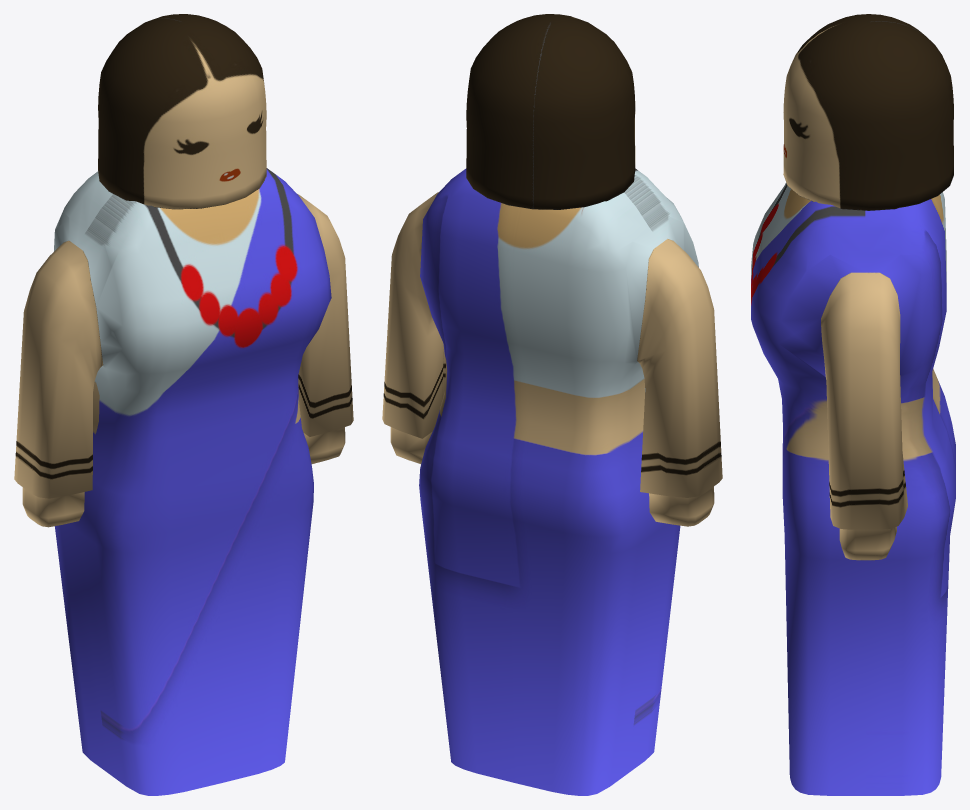
The model's file is EditedFemale.fbx.
3 views of the same model, side by side, from view 1: azimuth 30°, elevation 25°; view 2: azimuth 150°, elevation 25°; view 3: azimuth 270°, elevation 25° (orthographic).
Parts seen in each view (by area): view 1: Cube; view 2: Cube; view 3: Cube.
Part boxes in pixels (x1,y1,x2,y2): Cube: (14,14,353,795); Cube: (382,14,722,795); Cube: (751,14,955,795).
Bounding box in the file's own units: 347 × 763 × 192.
1 material, 1 textured.
